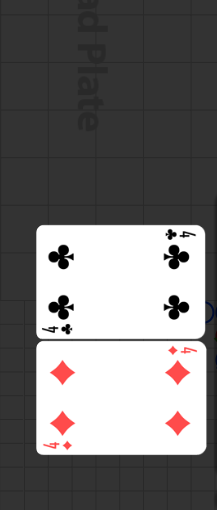4C: (164, 227, 198, 241)
4D: (43, 439, 75, 451)
